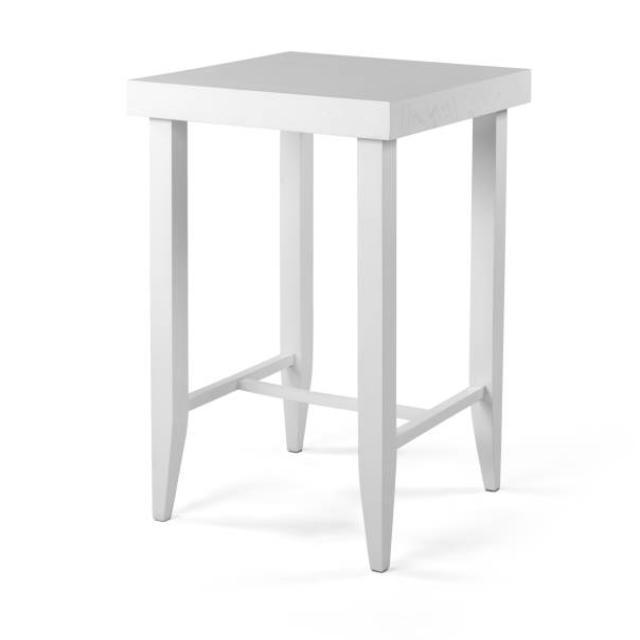table: (125, 49, 532, 572)
